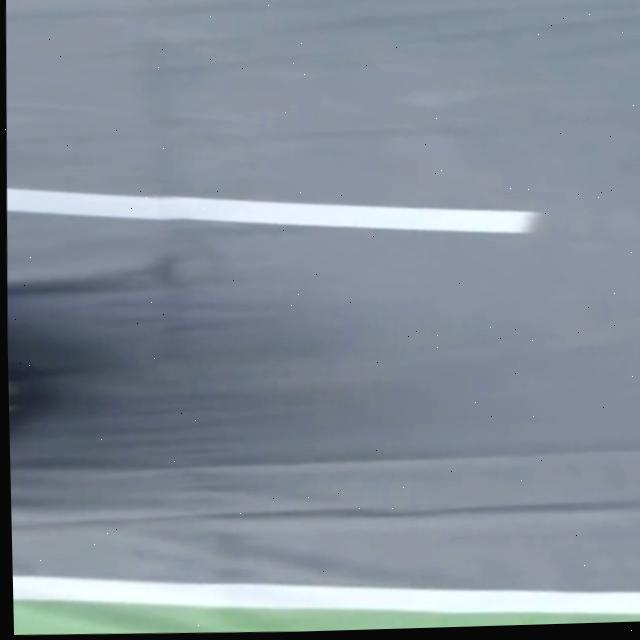center: (6, 185, 539, 231)
right: (13, 573, 640, 612)
